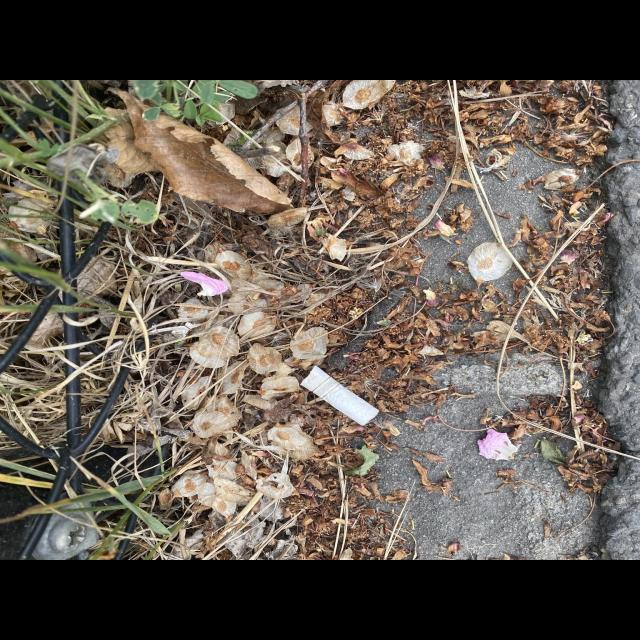other waste: (298, 365, 379, 426)
